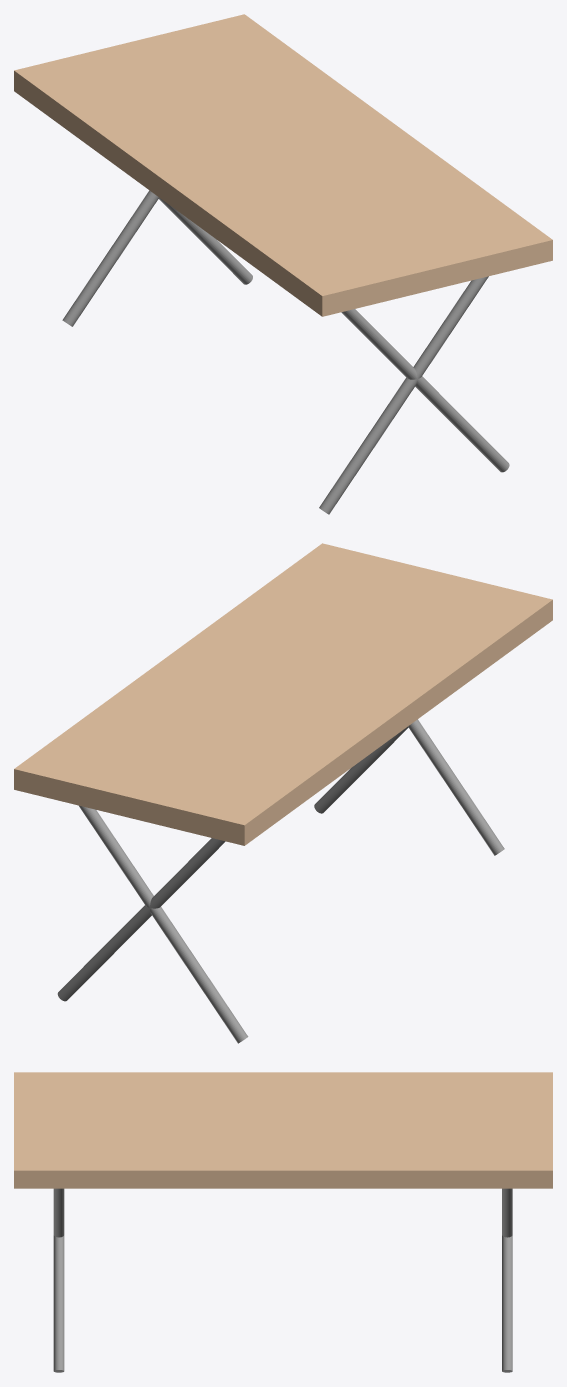
File: mesa.glb
3 views of the same model, one above another, from view 1: azimuth 30°, elevation 25°; view 2: azimuth 150°, elevation 25°; view 3: azimuth 270°, elevation 25° (orthographic). The views are drawn at different scales.
Visible parts, largest first — view 1: Cube; view 2: Cube; view 3: Cube.
Boxes of the visible parts, left/top/right/bottom form: Cube: left=14, top=14, right=552, bottom=514; Cube: left=14, top=543, right=552, bottom=1043; Cube: left=14, top=1072, right=552, bottom=1372.
Size of the model in its own units: 2.57 by 2.6 by 5.94.
